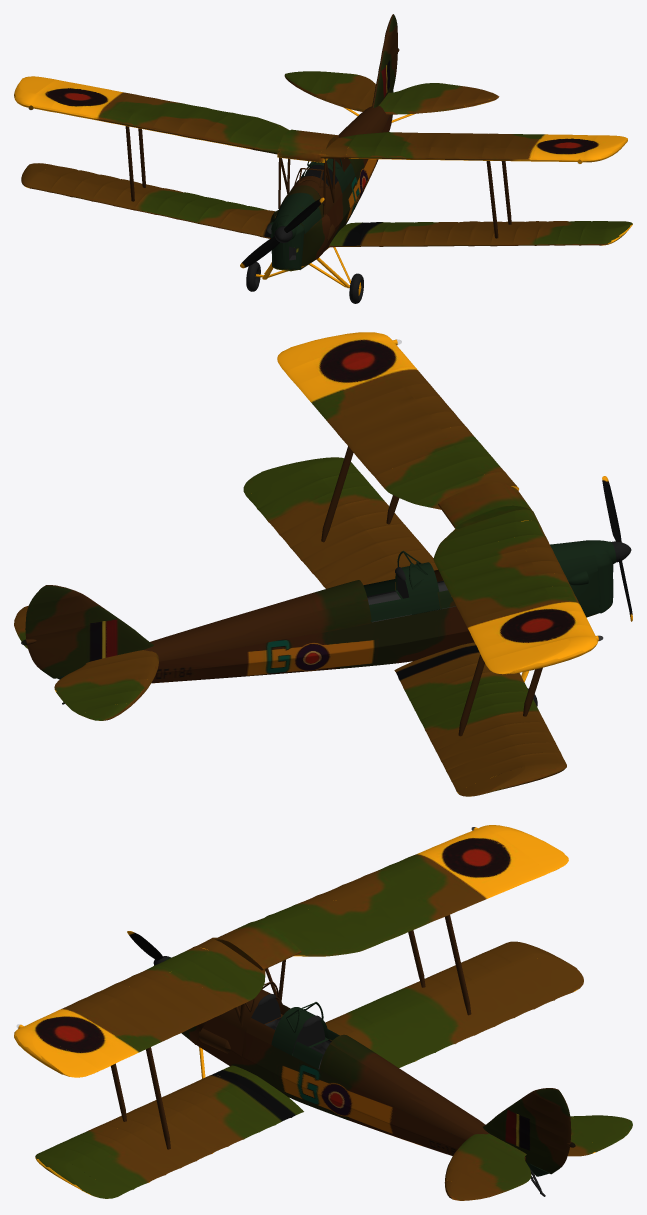
The model's file is moth.glb.
3 renders of one model, top to bottom at view 1: azimuth 30°, elevation 25°; view 2: azimuth 150°, elevation 25°; view 3: azimuth 270°, elevation 25°, orthographic. The views are drawn at different scales.
Visible parts, largest first — view 1: _1-FACES (×2), Wingupper-FACES, _2-FACES, WingLower-FACES, ltail-FACES, fuselage-FACES, fueltank-FACES, Fin-FACES, cowltop-FACES, combing-FACES, nose-FACES, Object01-FACES (+2 smaller); view 2: _1-FACES (×2), Wingupper-FACES, WingLower-FACES, _2-FACES, fuselage-FACES, combing-FACES, Fin-FACES, fueltank-FACES, littlebit-FACES, cowltop-FACES, nose-FACES, Object01-FACES (+2 smaller); view 3: _1-FACES (×2), Wingupper-FACES, _2-FACES, WingLower-FACES, fuselage-FACES, combing-FACES, Fin-FACES, ltail-FACES, fueltank-FACES, littlebit-FACES, anotherbit-FACES, Wingstrut2-FACES (+1 smaller).
Boxes of the visible parts, left/top/right/bottom form: _1-FACES (×2): left=14, top=71, right=375, bottom=154; Wingupper-FACES: left=320, top=132, right=627, bottom=162; _2-FACES: left=329, top=221, right=632, bottom=247; WingLower-FACES: left=21, top=163, right=276, bottom=238; ltail-FACES: left=378, top=83, right=499, bottom=114; fuselage-FACES: left=319, top=114, right=392, bottom=256; fueltank-FACES: left=277, top=129, right=338, bottom=162; Fin-FACES: left=372, top=14, right=397, bottom=108; cowltop-FACES: left=271, top=185, right=324, bottom=233; combing-FACES: left=335, top=106, right=389, bottom=174; nose-FACES: left=271, top=216, right=304, bottom=271; Object01-FACES: left=300, top=214, right=330, bottom=269; _1-FACES (×2): left=54, top=509, right=597, bottom=720; Wingupper-FACES: left=277, top=332, right=518, bottom=509; WingLower-FACES: left=394, top=642, right=566, bottom=796; _2-FACES: left=243, top=457, right=437, bottom=589; fuselage-FACES: left=151, top=581, right=474, bottom=683; combing-FACES: left=144, top=580, right=371, bottom=661; Fin-FACES: left=25, top=585, right=154, bottom=678; fueltank-FACES: left=438, top=482, right=531, bottom=529; littlebit-FACES: left=401, top=562, right=441, bottom=614; cowltop-FACES: left=550, top=540, right=597, bottom=579; nose-FACES: left=589, top=540, right=613, bottom=613; Object01-FACES: left=567, top=570, right=599, bottom=617; _1-FACES (×2): left=254, top=825, right=632, bottom=1156; Wingupper-FACES: left=14, top=937, right=265, bottom=1077; _2-FACES: left=35, top=1065, right=303, bottom=1198; WingLower-FACES: left=325, top=941, right=583, bottom=1067; fuselage-FACES: left=196, top=1017, right=465, bottom=1155; combing-FACES: left=319, top=1034, right=525, bottom=1160; Fin-FACES: left=483, top=1088, right=571, bottom=1174; ltail-FACES: left=444, top=1133, right=531, bottom=1200; fueltank-FACES: left=214, top=921, right=301, bottom=970; littlebit-FACES: left=271, top=1007, right=315, bottom=1055; anotherbit-FACES: left=216, top=989, right=284, bottom=1031; Wingstrut2-FACES: left=146, top=1047, right=170, bottom=1149.
Size of the model in its own units: 7.84 by 2.68 by 7.77.
81 materials, 57 textured.
